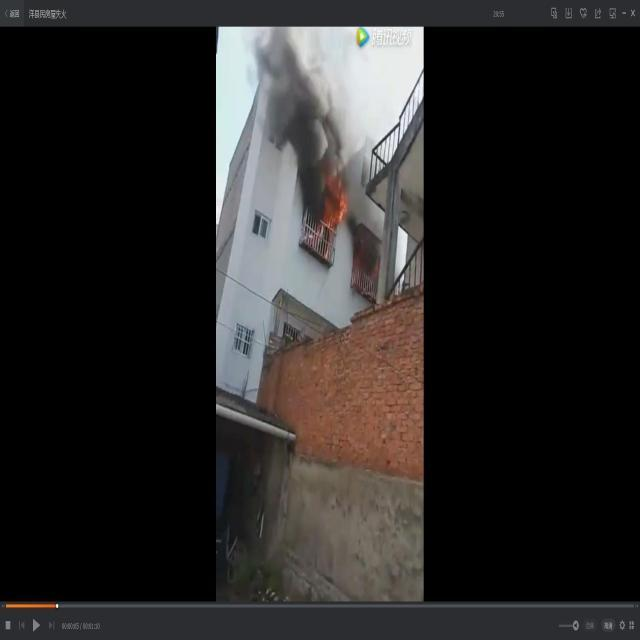Fire: (316, 168, 351, 245)
Smoke: (247, 28, 326, 214)
